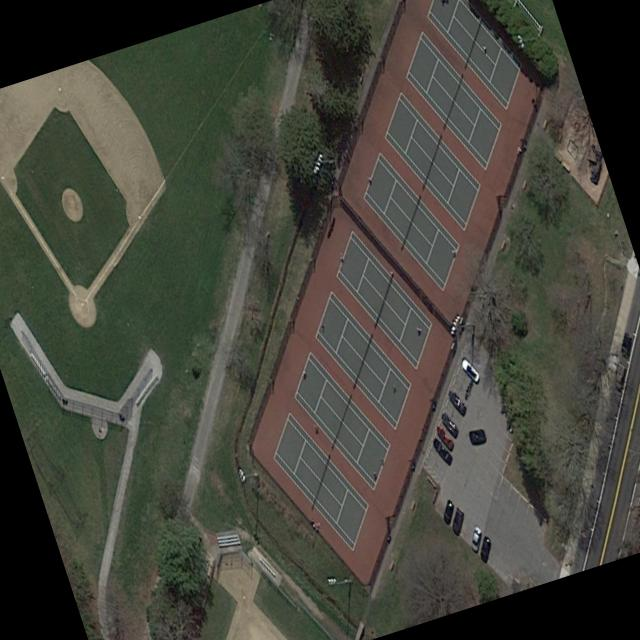small-vehicle: (446, 387, 466, 419), (459, 355, 480, 385), (433, 422, 453, 452), (431, 436, 451, 466), (439, 410, 458, 437), (618, 330, 632, 362), (469, 523, 482, 554), (451, 505, 463, 537), (441, 498, 454, 527), (479, 533, 491, 563), (614, 362, 626, 392), (467, 427, 487, 445)
